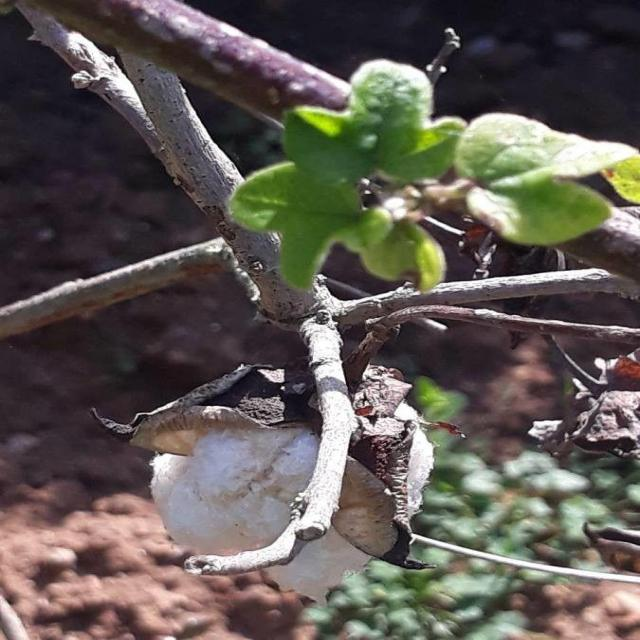Early_blight: (138, 419, 401, 606)
